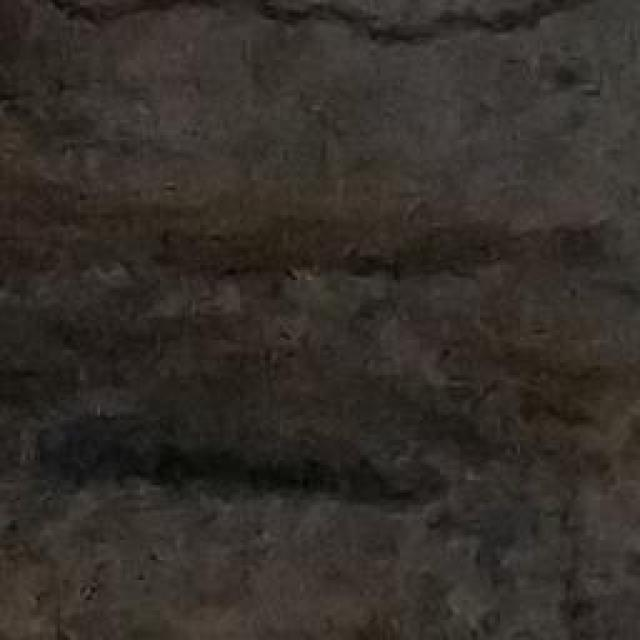Transverse: (11, 0, 640, 135)
